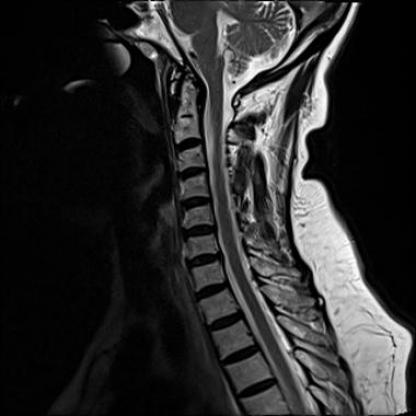Disc Bulgerotation: (180, 222, 217, 241), (186, 251, 221, 269)
